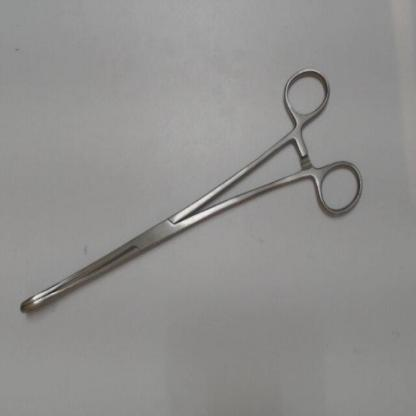Sponge Forceps: (12, 59, 366, 322)
